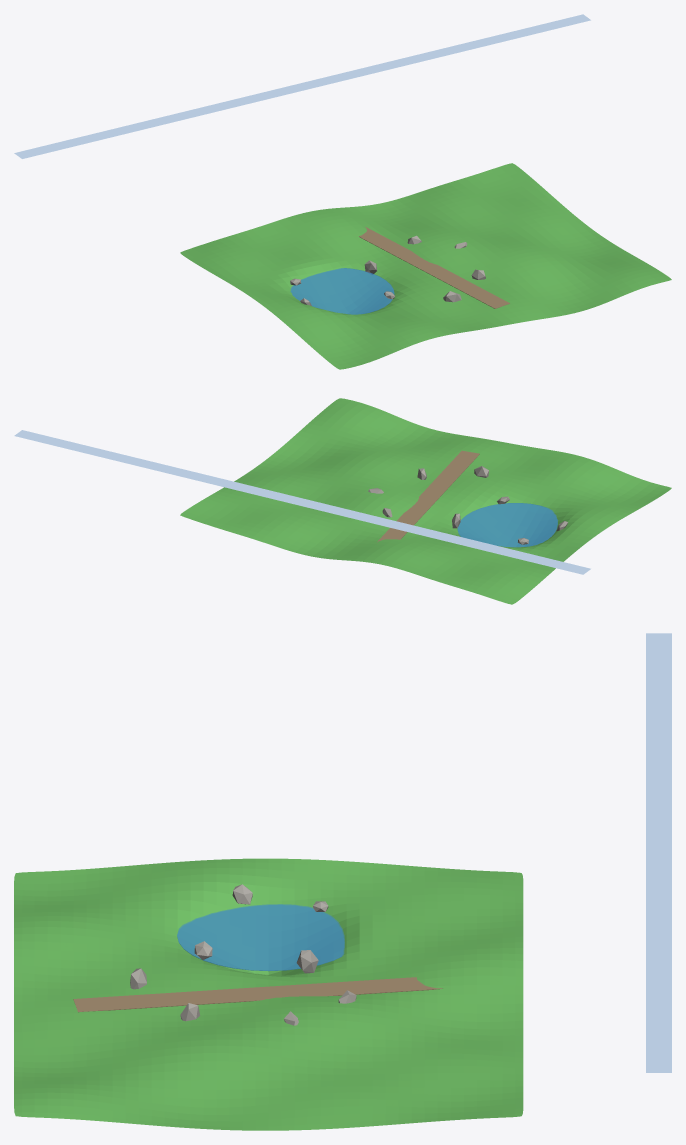
The model's file is forest_landscape.fbx.
3 views of the same model, one above another, from view 1: azimuth 30°, elevation 25°; view 2: azimuth 150°, elevation 25°; view 3: azimuth 270°, elevation 25° (orthographic). The views are drawn at different scales.
Parts seen in each view (by area): view 1: Terrain, SkyBackdropWall, WaterPond, BrownPath; view 2: Terrain, SkyBackdropWall, WaterPond, BrownPath; view 3: Terrain, SkyBackdropWall, WaterPond, BrownPath.
Part boxes in pixels (x1,y1,x2,y2): Terrain: [180, 163, 671, 369]; SkyBackdropWall: [14, 14, 590, 158]; WaterPond: [290, 268, 394, 314]; BrownPath: [359, 226, 509, 308]; Terrain: [180, 398, 671, 604]; SkyBackdropWall: [14, 430, 590, 574]; WaterPond: [457, 503, 557, 547]; BrownPath: [377, 450, 479, 542]; Terrain: [14, 858, 523, 1130]; SkyBackdropWall: [646, 633, 671, 1072]; WaterPond: [177, 904, 344, 971]; BrownPath: [73, 977, 442, 1012].
Bounding box in the file's own units: 4000 × 796 × 2529.
